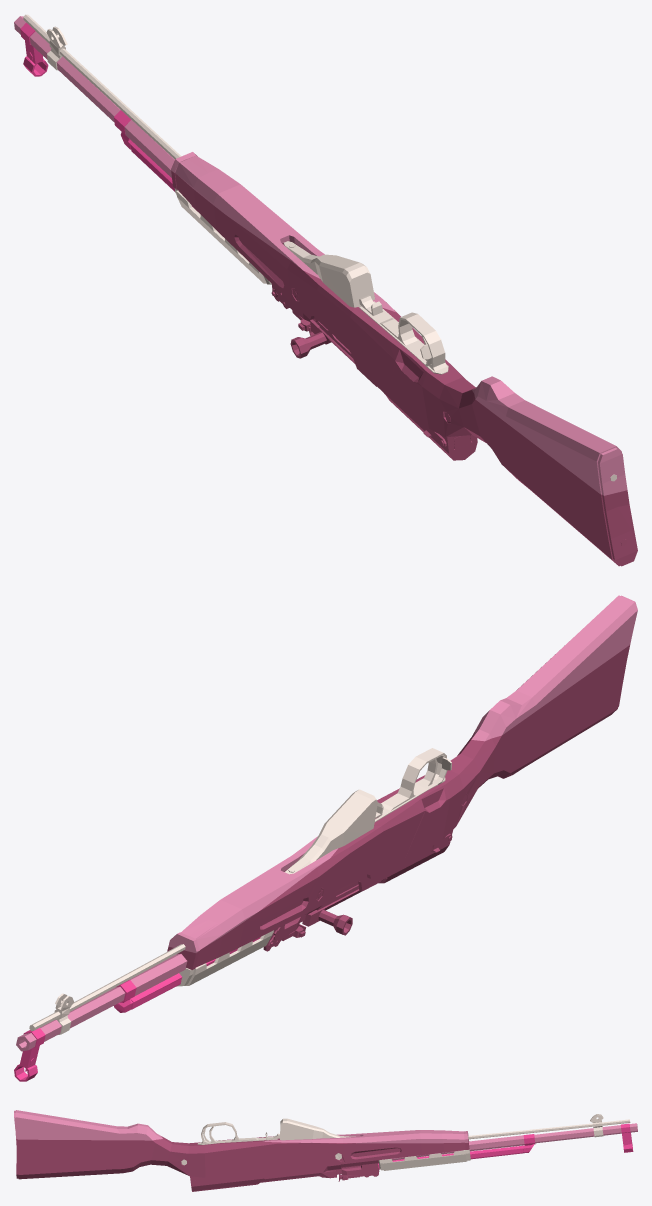
The model's file is Marksman_SKS.obj.
3 views of the same model, one above another, from view 1: azimuth 30°, elevation 25°; view 2: azimuth 150°, elevation 25°; view 3: azimuth 270°, elevation 25° (orthographic). The views are drawn at different scales.
Parts seen in each view (by area): view 1: Grip, Body, Panel, Mag, Accent; view 2: Grip, Body, Panel, Mag, Accent; view 3: Grip, Body, Panel, Mag, Accent.
Boxes of the visible parts, x1,y1,x2,y2 form: Grip: (171,171,637,566); Body: (14,16,627,495); Panel: (23,14,616,481); Mag: (271,284,477,460); Accent: (20,22,197,211); Grip: (167,644,630,969); Body: (16,595,637,1051); Panel: (29,748,451,1034); Mag: (263,830,452,951); Accent: (14,937,260,1081); Grip: (16,1136,469,1179); Body: (14,1110,637,1160); Panel: (15,1114,630,1170); Mag: (190,1160,379,1191); Accent: (378,1123,633,1169).
Size of the model in its own units: 0.1975 by 0.499 by 3.8.
